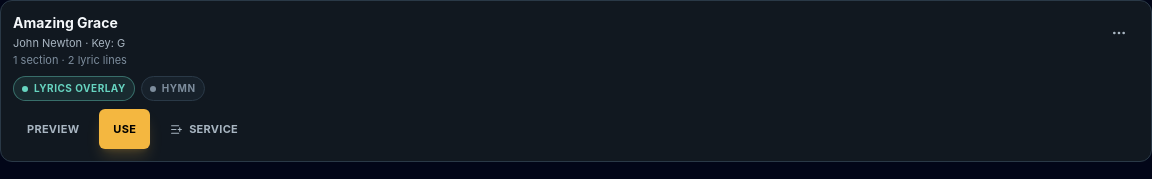
SongCard › hymn cards share the primary vocabulary but swap the secondary actions
The width and height of the screenshot is (1152, 179).
Expected: the button "Preview" is shown, 13,109 -> 93,149
Expected: the button "Use" is shown, 99,109 -> 150,149
Click the button named "More actions" at (1119, 33), box 1099,13 -> 1139,53
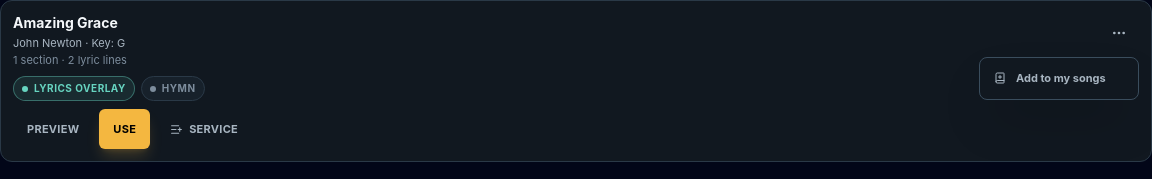
Now the menu item "Add to my songs" is shown, box 984,62 -> 1134,94
